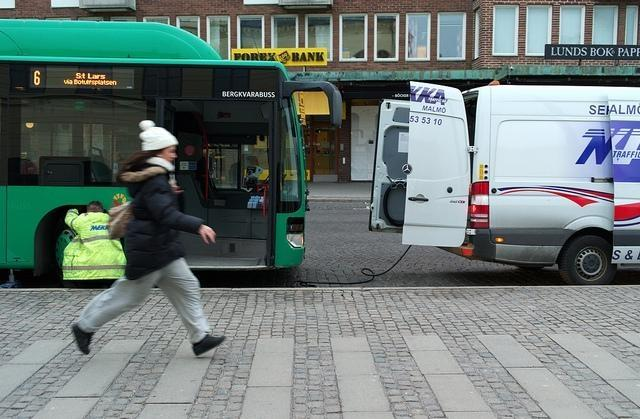bus: (0, 19, 343, 271)
truck: (368, 80, 640, 286)
